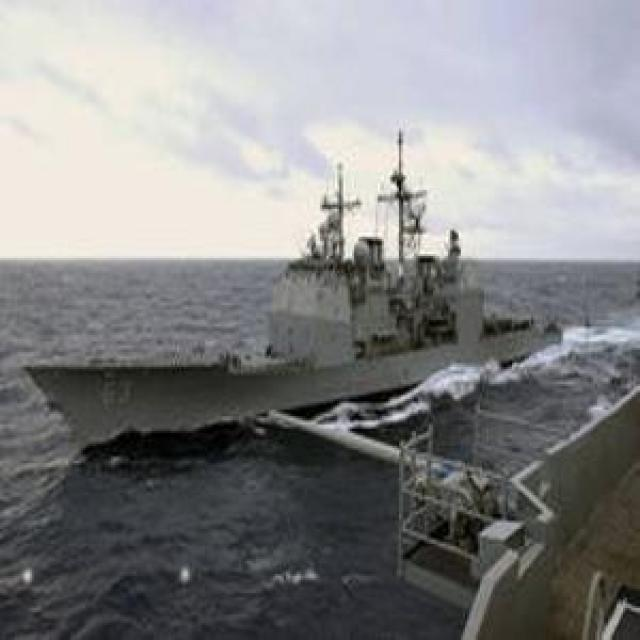navalvessels: (24, 134, 585, 463)
